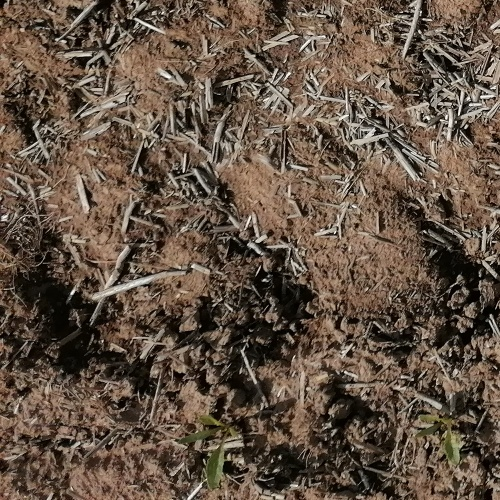beet: (189, 415, 234, 489), (415, 410, 462, 465)
